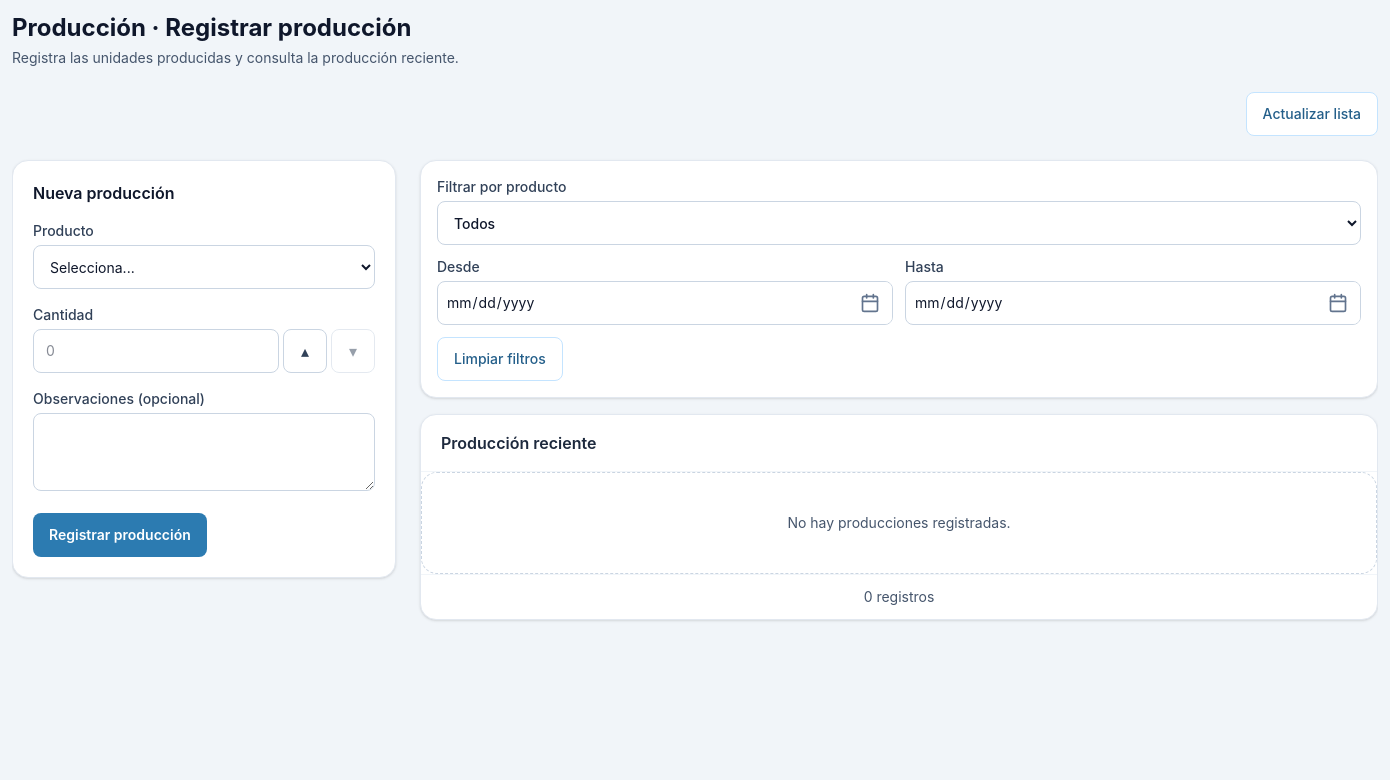
FX2 R4-11 · validación de registrar persiste en campo sin Toast
Click the button "Registrar producción".
click(120, 535)  # box [33,513,207,557]
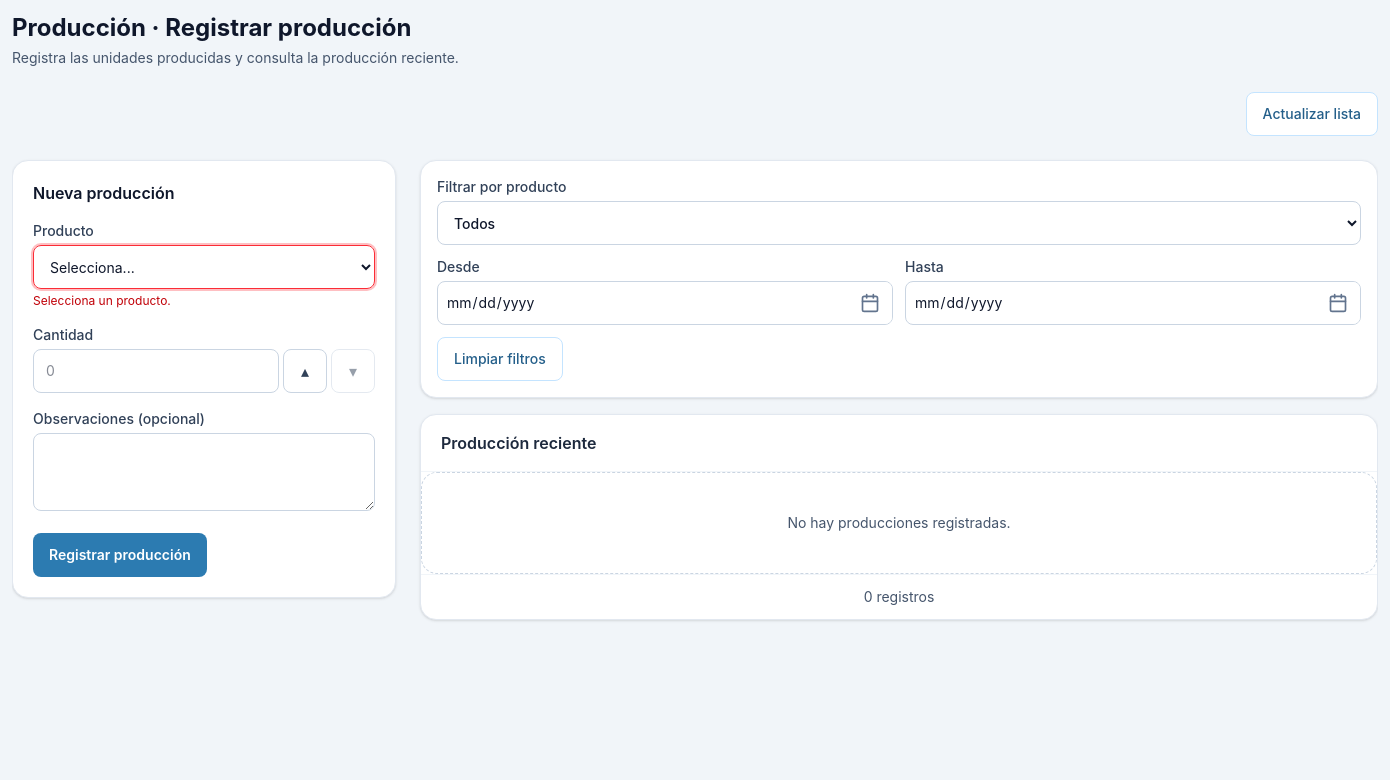
Expected: the text "Selecciona un producto." is shown once, [33,293,171,308]
